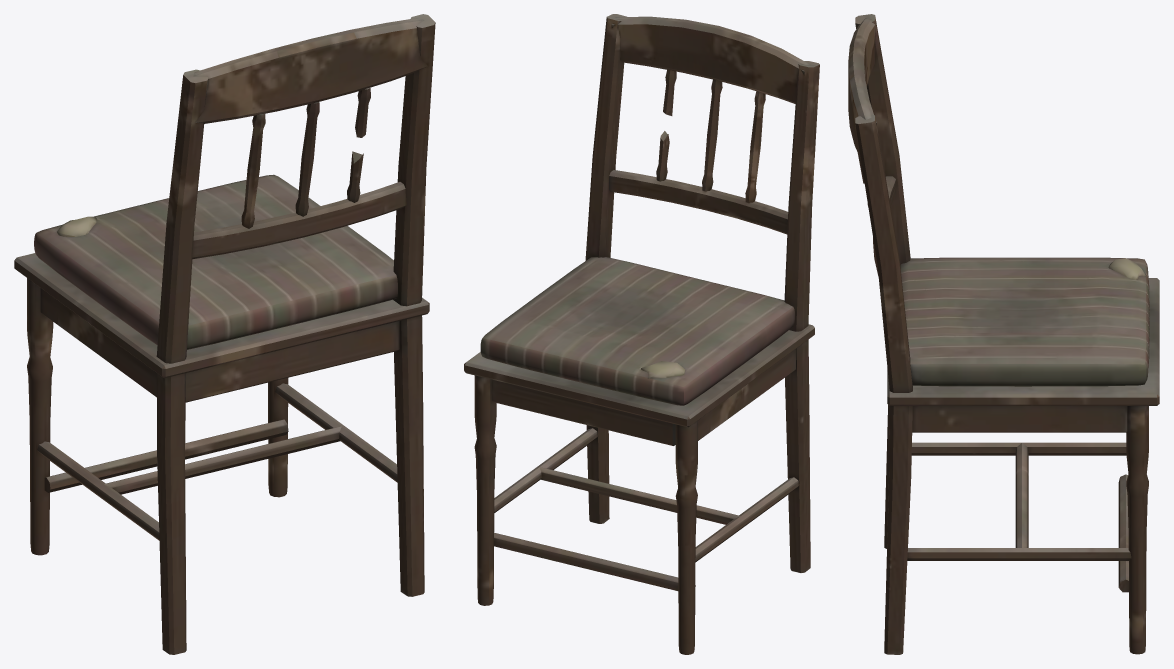
The model's file is dressing_chair.glb.
The picture shows the model from 3 angles, left to right: view 1: azimuth 30°, elevation 25°; view 2: azimuth 150°, elevation 25°; view 3: azimuth 270°, elevation 25°; orthographic projection. The views are drawn at different scales.
Parts seen in each view (by area): view 1: dressing_chair; view 2: dressing_chair; view 3: dressing_chair.
Part boxes in pixels (<box>): dressing_chair: <box>14,14,435,654</box>; dressing_chair: <box>464,14,819,654</box>; dressing_chair: <box>848,14,1159,654</box>.
Bounding box in the file's own units: 0.432 × 0.92 × 0.48.
1 material, 1 textured.
